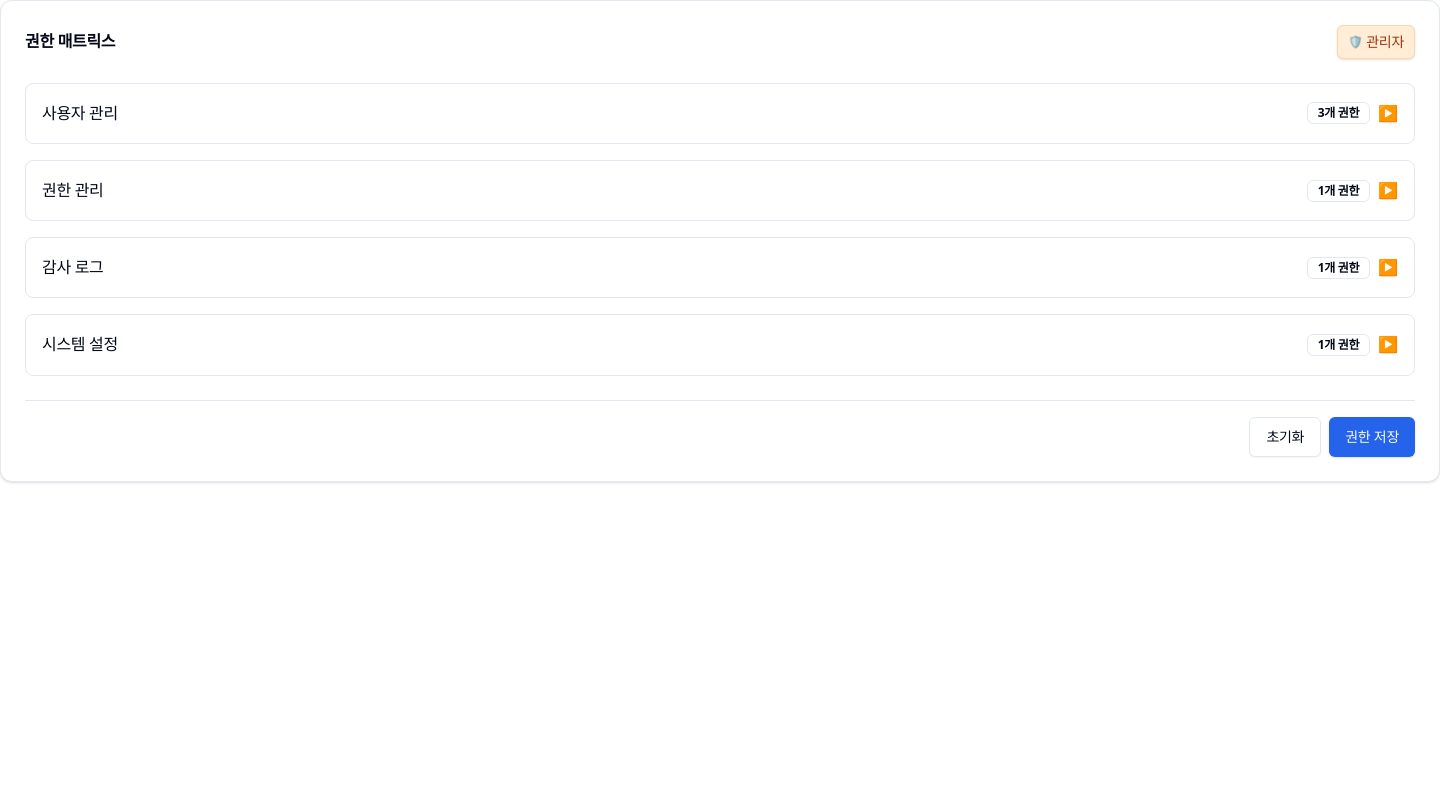
Scenario: PermissionMatrix Component › Category Expansion › should expand category when clicked
Click the button "사용자 관리 3개 권한 ▶". click: [80, 113]
box: 26,84 -> 1414,143
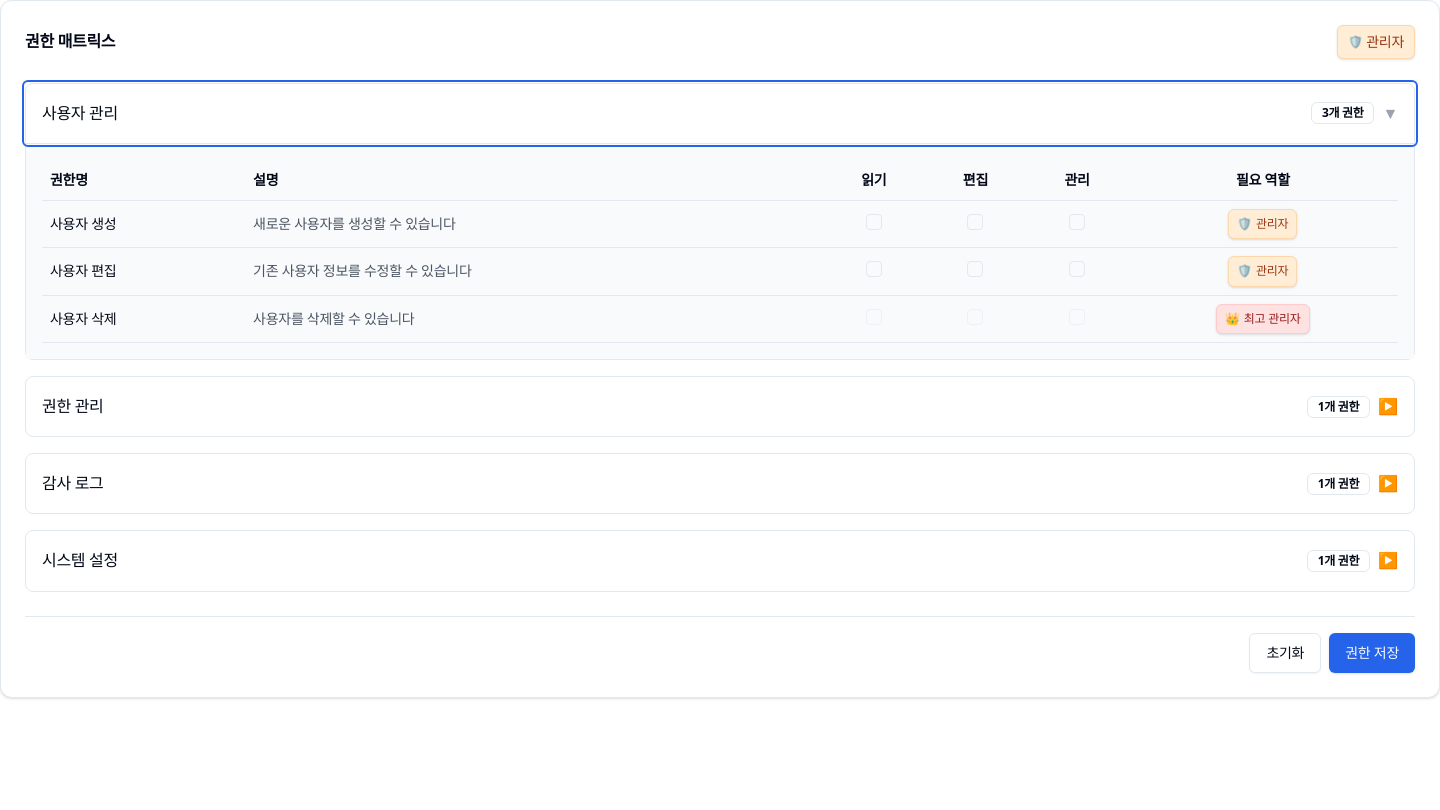
expect the text "사용자 생성" is shown: met, box 42,200 -> 245,248
expect the text "사용자 편집" is shown: met, box 42,248 -> 245,295
expect the text "사용자 삭제" is shown: met, box 42,295 -> 245,342
